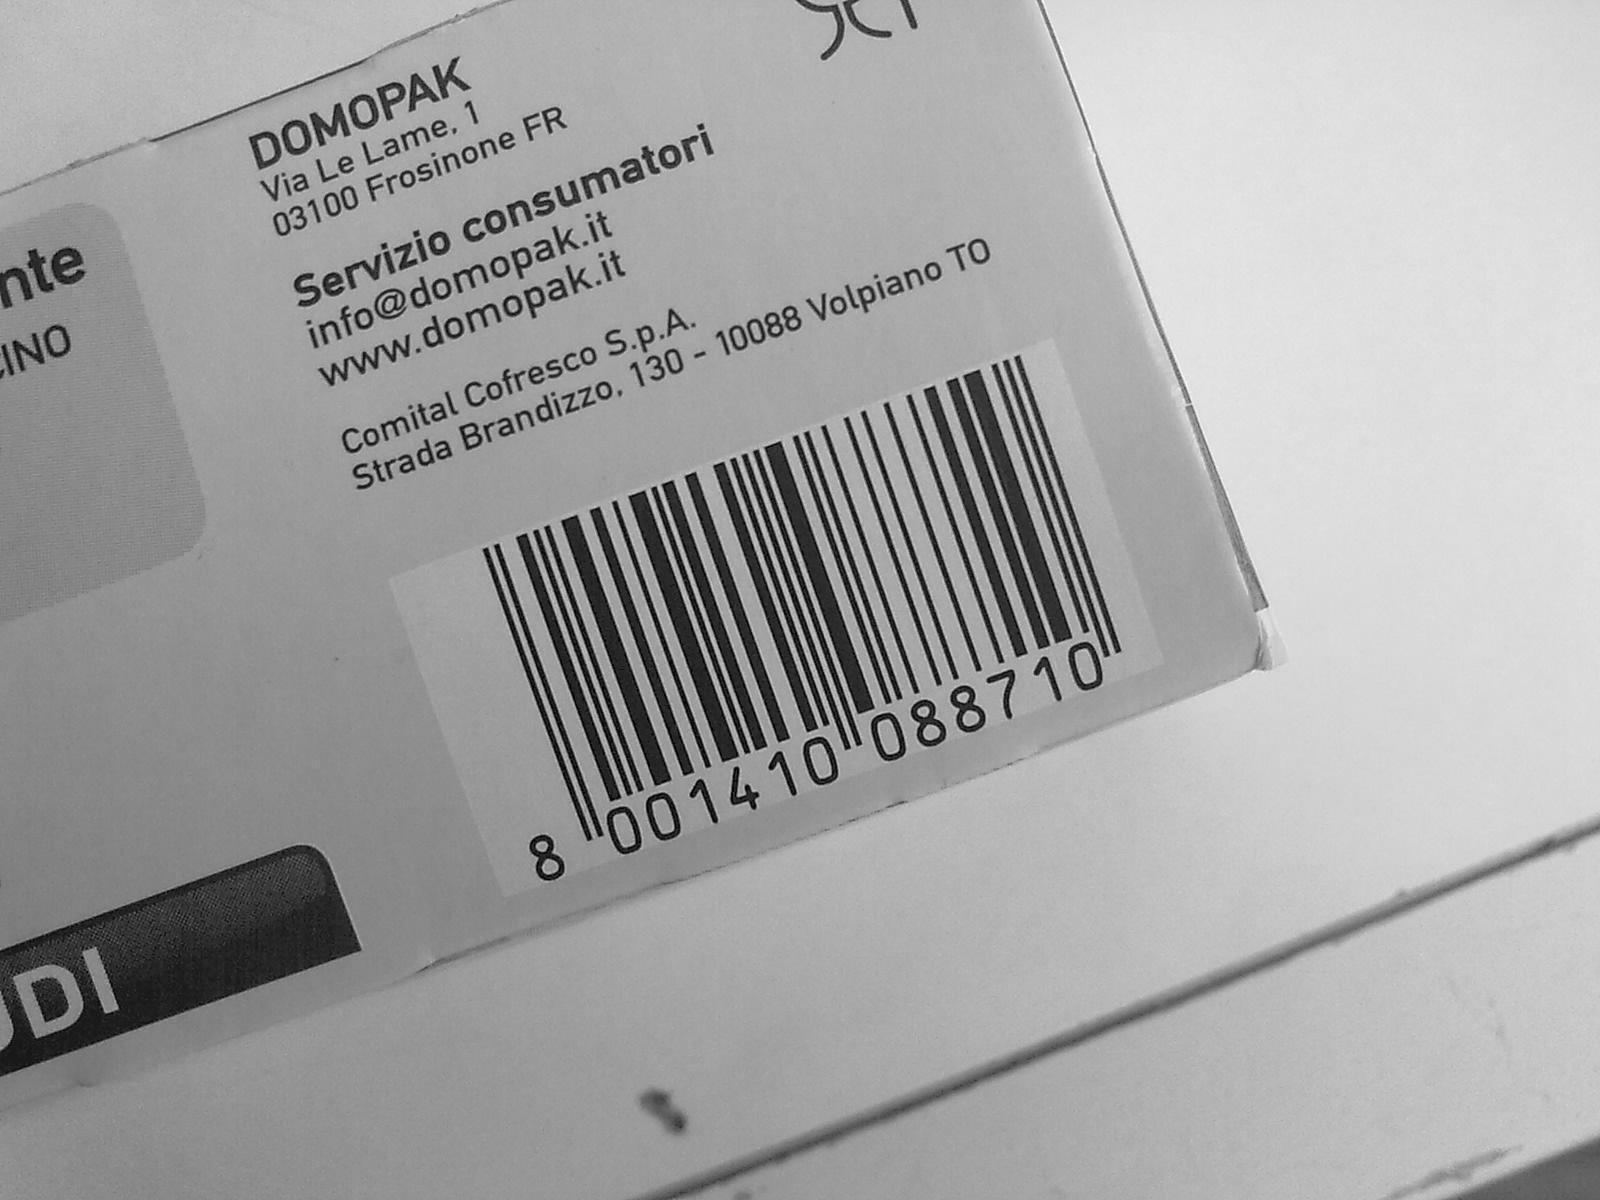Barcode: (470, 333, 1155, 865)
